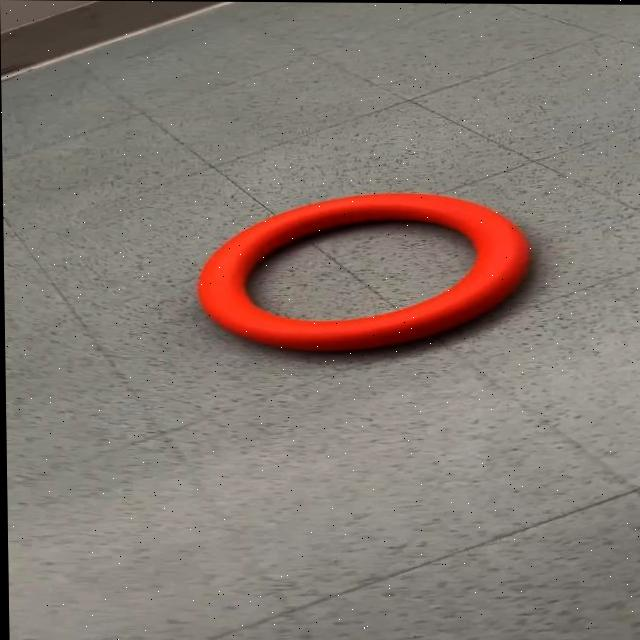note: (194, 189, 534, 354)
